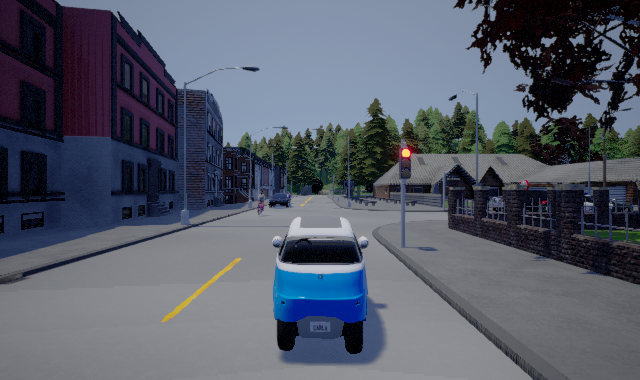bike: (255, 189, 265, 216)
traffic_light: (399, 142, 411, 185)
vehicle: (271, 216, 368, 354), (269, 193, 292, 208)
